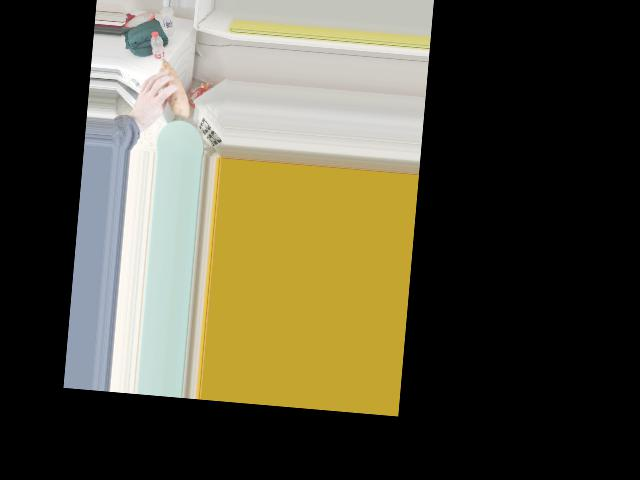sweet_potato: (147, 61, 191, 108)
